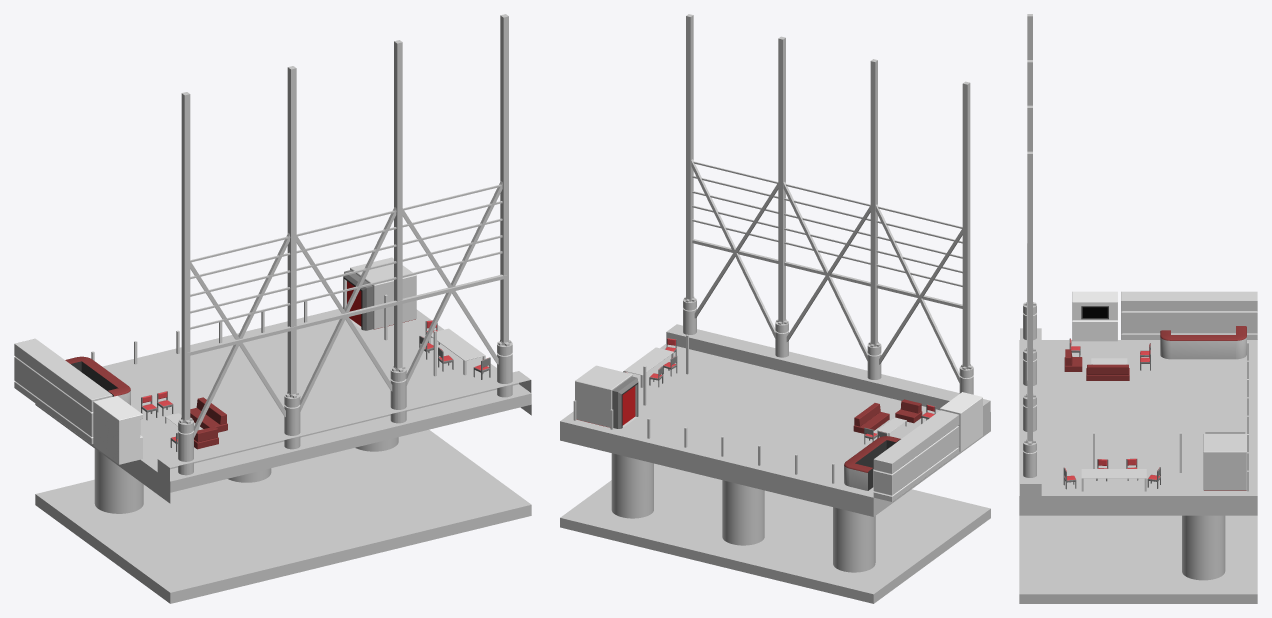
The model's file is Level1Geo.fbx.
3 renders of one model, left to right at view 1: azimuth 30°, elevation 25°; view 2: azimuth 150°, elevation 25°; view 3: azimuth 270°, elevation 25°, orthographic. The views are drawn at different scales.
Parts seen in each view (by area): view 1: Lower Level Floor.001, Floor.001, Supports.001, Reception Wall.001, Support Wall.001, Support Columns.001, ElevatorShaft, Lower Level Support, TV Wall.001, Reception Desk.001, Table_Long, SofaLong; view 2: Floor.001, Lower Level Floor.001, Supports.001, Lower Level Support, Support Wall.001, Reception Wall.001, ElevatorShaft, Support Columns.001, TV Wall.001, Reception Desk.001, SofaLong, Table_Long (+1 smaller); view 3: Floor.001, Lower Level Floor.001, Reception Wall.001, Lower Level Support, ElevatorShaft, Supports.001, TV Wall.001, Reception Desk.001, Support Wall.001, Support Columns.001, SofaLong, Table_Long (+1 smaller).
Boxes of the visible parts, bbox=[...] form: Lower Level Floor.001: bbox=[35, 429, 531, 603]; Floor.001: bbox=[35, 309, 531, 503]; Supports.001: bbox=[181, 14, 508, 437]; Reception Wall.001: bbox=[14, 338, 112, 444]; Support Wall.001: bbox=[157, 371, 531, 480]; Support Columns.001: bbox=[178, 340, 512, 475]; ElevatorShaft: bbox=[343, 257, 416, 330]; Lower Level Support: bbox=[94, 437, 398, 513]; TV Wall.001: bbox=[93, 395, 142, 464]; Reception Desk.001: bbox=[65, 356, 130, 405]; Table_Long: bbox=[428, 328, 485, 375]; SofaLong: bbox=[190, 397, 227, 432]; Floor.001: bbox=[560, 343, 990, 516]; Lower Level Floor.001: bbox=[560, 463, 990, 603]; Supports.001: bbox=[686, 14, 970, 382]; Lower Level Support: bbox=[611, 453, 875, 572]; Support Wall.001: bbox=[666, 324, 990, 417]; Reception Wall.001: bbox=[873, 410, 959, 501]; ElevatorShaft: bbox=[575, 365, 638, 428]; Support Columns.001: bbox=[683, 297, 973, 394]; TV Wall.001: bbox=[940, 392, 982, 451]; Reception Desk.001: bbox=[844, 436, 900, 490]; SofaLong: bbox=[853, 403, 889, 434]; Table_Long: bbox=[624, 347, 674, 387]; Floor.001: bbox=[1019, 340, 1257, 515]; Lower Level Floor.001: bbox=[1019, 515, 1257, 603]; Reception Wall.001: bbox=[1121, 291, 1257, 339]; Lower Level Support: bbox=[1182, 515, 1225, 580]; ElevatorShaft: bbox=[1203, 432, 1246, 490]; Supports.001: bbox=[1027, 14, 1032, 443]; TV Wall.001: bbox=[1072, 291, 1117, 341]; Reception Desk.001: bbox=[1160, 326, 1246, 359]; Support Wall.001: bbox=[1020, 328, 1041, 495]; Support Columns.001: bbox=[1023, 302, 1036, 477]; SofaLong: bbox=[1086, 364, 1129, 380]; Table_Long: bbox=[1081, 469, 1146, 491].
Size of the model in its own units: 900 by 1125 by 550.
